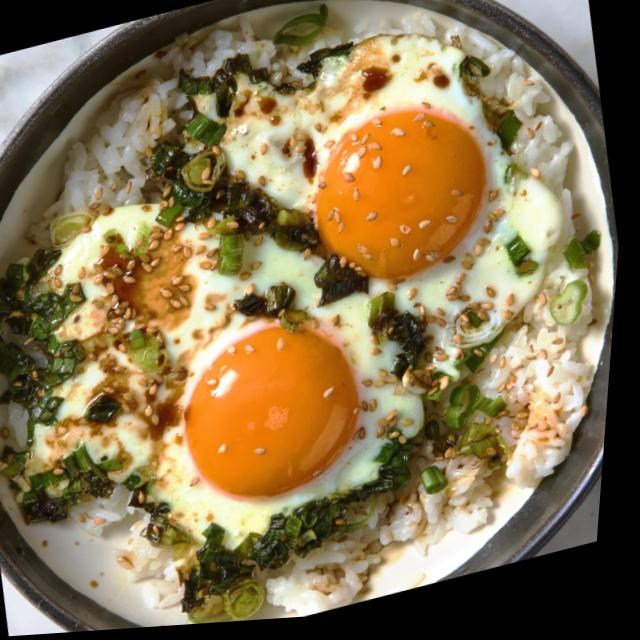fried_eggs: (115, 0, 640, 629), (0, 54, 445, 640)
